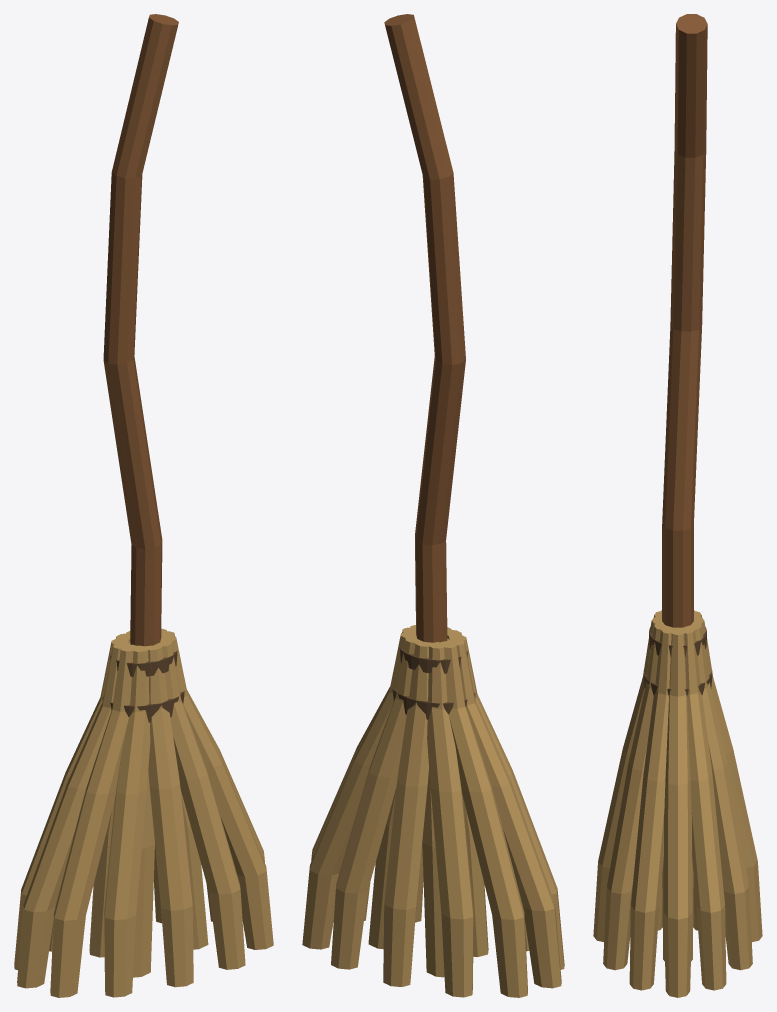
3 renders of one model, left to right at view 1: azimuth 30°, elevation 25°; view 2: azimuth 150°, elevation 25°; view 3: azimuth 270°, elevation 25°, orthographic.
Parts seen in each view (by area): view 1: WholeLongBentHandle, WholeOuterTwigBundle8, WholeOuterTwigBundle7, WholeOuterTwigBundle9, WholeOuterTwigBundle10, WholeOuterTwigBundle6, WholeOuterTwigBundle11, WholeInnerTwigBundle2, WholeOuterTwigBundle5, WholeInnerTwigBundle0, WholeInnerTwigBundle1, WholeOuterTwigBundle0 (+1 smaller); view 2: WholeLongBentHandle, WholeOuterTwigBundle4, WholeOuterTwigBundle5, WholeOuterTwigBundle3, WholeOuterTwigBundle2, WholeOuterTwigBundle6, WholeOuterTwigBundle1, WholeInnerTwigBundle1, WholeOuterTwigBundle7, WholeInnerTwigBundle0, WholeInnerTwigBundle2, WholeBindingLoop1 (+1 smaller); view 3: WholeLongBentHandle, WholeOuterTwigBundle0, WholeOuterTwigBundle1, WholeOuterTwigBundle11, WholeOuterTwigBundle2, WholeOuterTwigBundle10, WholeOuterTwigBundle9, WholeOuterTwigBundle3.
Boxes of the visible parts, left/top/right/bottom form: WholeLongBentHandle: left=103, top=14, right=178, bottom=646; WholeOuterTwigBundle8: left=104, top=645, right=150, bottom=997; WholeOuterTwigBundle7: left=50, top=644, right=137, bottom=997; WholeOuterTwigBundle9: left=148, top=643, right=193, bottom=987; WholeOuterTwigBundle10: left=158, top=640, right=245, bottom=969; WholeOuterTwigBundle6: left=17, top=642, right=130, bottom=988; WholeOuterTwigBundle11: left=160, top=636, right=273, bottom=949; WholeInnerTwigBundle2: left=133, top=772, right=154, bottom=977; WholeOuterTwigBundle5: left=14, top=638, right=128, bottom=969; WholeInnerTwigBundle0: left=180, top=790, right=208, bottom=949; WholeInnerTwigBundle1: left=89, top=642, right=130, bottom=957; WholeOuterTwigBundle0: left=161, top=631, right=264, bottom=929; WholeLongBentHandle: left=384, top=14, right=465, bottom=642; WholeOuterTwigBundle4: left=427, top=642, right=473, bottom=997; WholeOuterTwigBundle5: left=439, top=641, right=527, bottom=997; WholeOuterTwigBundle3: left=383, top=641, right=429, bottom=986; WholeOuterTwigBundle2: left=331, top=637, right=422, bottom=969; WholeOuterTwigBundle6: left=447, top=639, right=561, bottom=988; WholeOuterTwigBundle1: left=302, top=632, right=416, bottom=949; WholeInnerTwigBundle1: left=422, top=768, right=444, bottom=977; WholeOuterTwigBundle7: left=448, top=634, right=564, bottom=969; WholeInnerTwigBundle0: left=368, top=788, right=396, bottom=949; WholeInnerTwigBundle2: left=447, top=638, right=488, bottom=956; WholeBindingLoop1: left=399, top=647, right=467, bottom=673; WholeLongBentHandle: left=662, top=14, right=707, bottom=627; WholeOuterTwigBundle0: left=663, top=627, right=692, bottom=997; WholeOuterTwigBundle1: left=681, top=626, right=726, bottom=990; WholeOuterTwigBundle11: left=629, top=626, right=674, bottom=990; WholeOuterTwigBundle2: left=687, top=621, right=752, bottom=970; WholeOuterTwigBundle10: left=603, top=621, right=668, bottom=970; WholeOuterTwigBundle9: left=593, top=616, right=662, bottom=941; WholeOuterTwigBundle3: left=693, top=616, right=762, bottom=941.
Size of the model in its own units: 0.424 by 1.49 by 0.2452.
